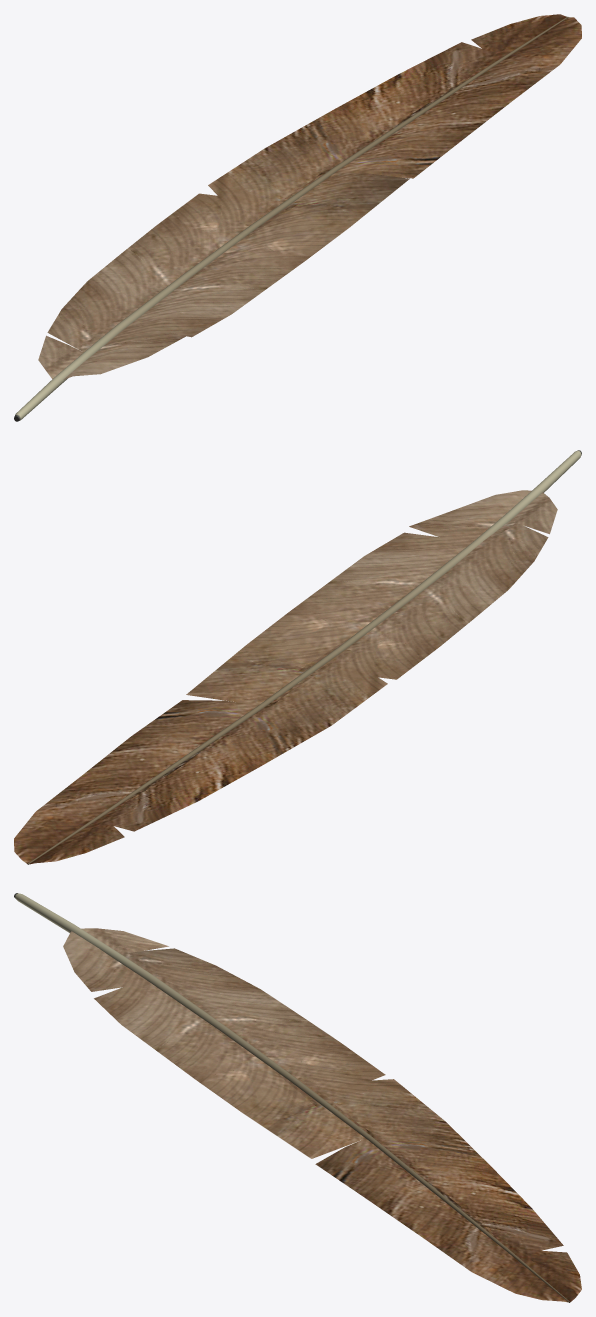
File: Pluma.fbx
3 views of the same model, one above another, from view 1: azimuth 30°, elevation 25°; view 2: azimuth 210°, elevation 25°; view 3: azimuth 270°, elevation 25° (orthographic).
Visible parts, largest first — view 1: Feather2; view 2: Feather2; view 3: Feather2.
Part boxes in pixels (<box>): Feather2: <box>14,14,581,421</box>; Feather2: <box>14,450,581,864</box>; Feather2: <box>14,893,581,1302</box>.
Size of the model in its own units: 0.1813 by 0.00215 by 0.1078.
